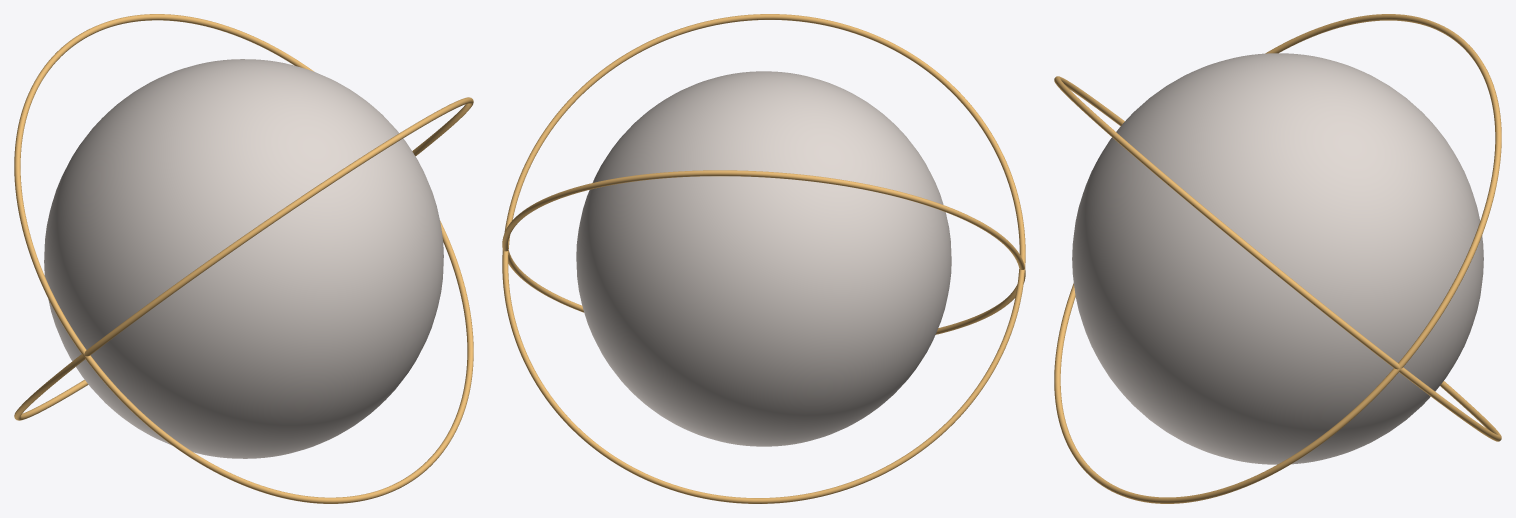
The model's file is aura-orb-v001.glb.
3 renders of one model, left to right at view 1: azimuth 30°, elevation 25°; view 2: azimuth 150°, elevation 25°; view 3: azimuth 270°, elevation 25°, orthographic. The views are drawn at different scales.
Parts seen in each view (by area): view 1: PearlescentShell, OrbitRing_2, OrbitRing_1; view 2: PearlescentShell, OrbitRing_1, OrbitRing_2; view 3: PearlescentShell, OrbitRing_2, OrbitRing_1.
Part boxes in pixels (x1=…): PearlescentShell: x1=44, y1=59, x2=443, y2=458; OrbitRing_2: x1=14, y1=14, x2=473, y2=503; OrbitRing_1: x1=14, y1=97, x2=473, y2=420; PearlescentShell: x1=576, y1=71, x2=951, y2=446; OrbitRing_1: x1=502, y1=14, x2=1025, y2=503; OrbitRing_2: x1=502, y1=170, x2=1025, y2=334; PearlescentShell: x1=1072, y1=53, x2=1483, y2=464; OrbitRing_2: x1=1054, y1=14, x2=1501, y2=503; OrbitRing_1: x1=1054, y1=76, x2=1501, y2=441.
Size of the model in its own units: 2.67 by 2 by 2.17.
